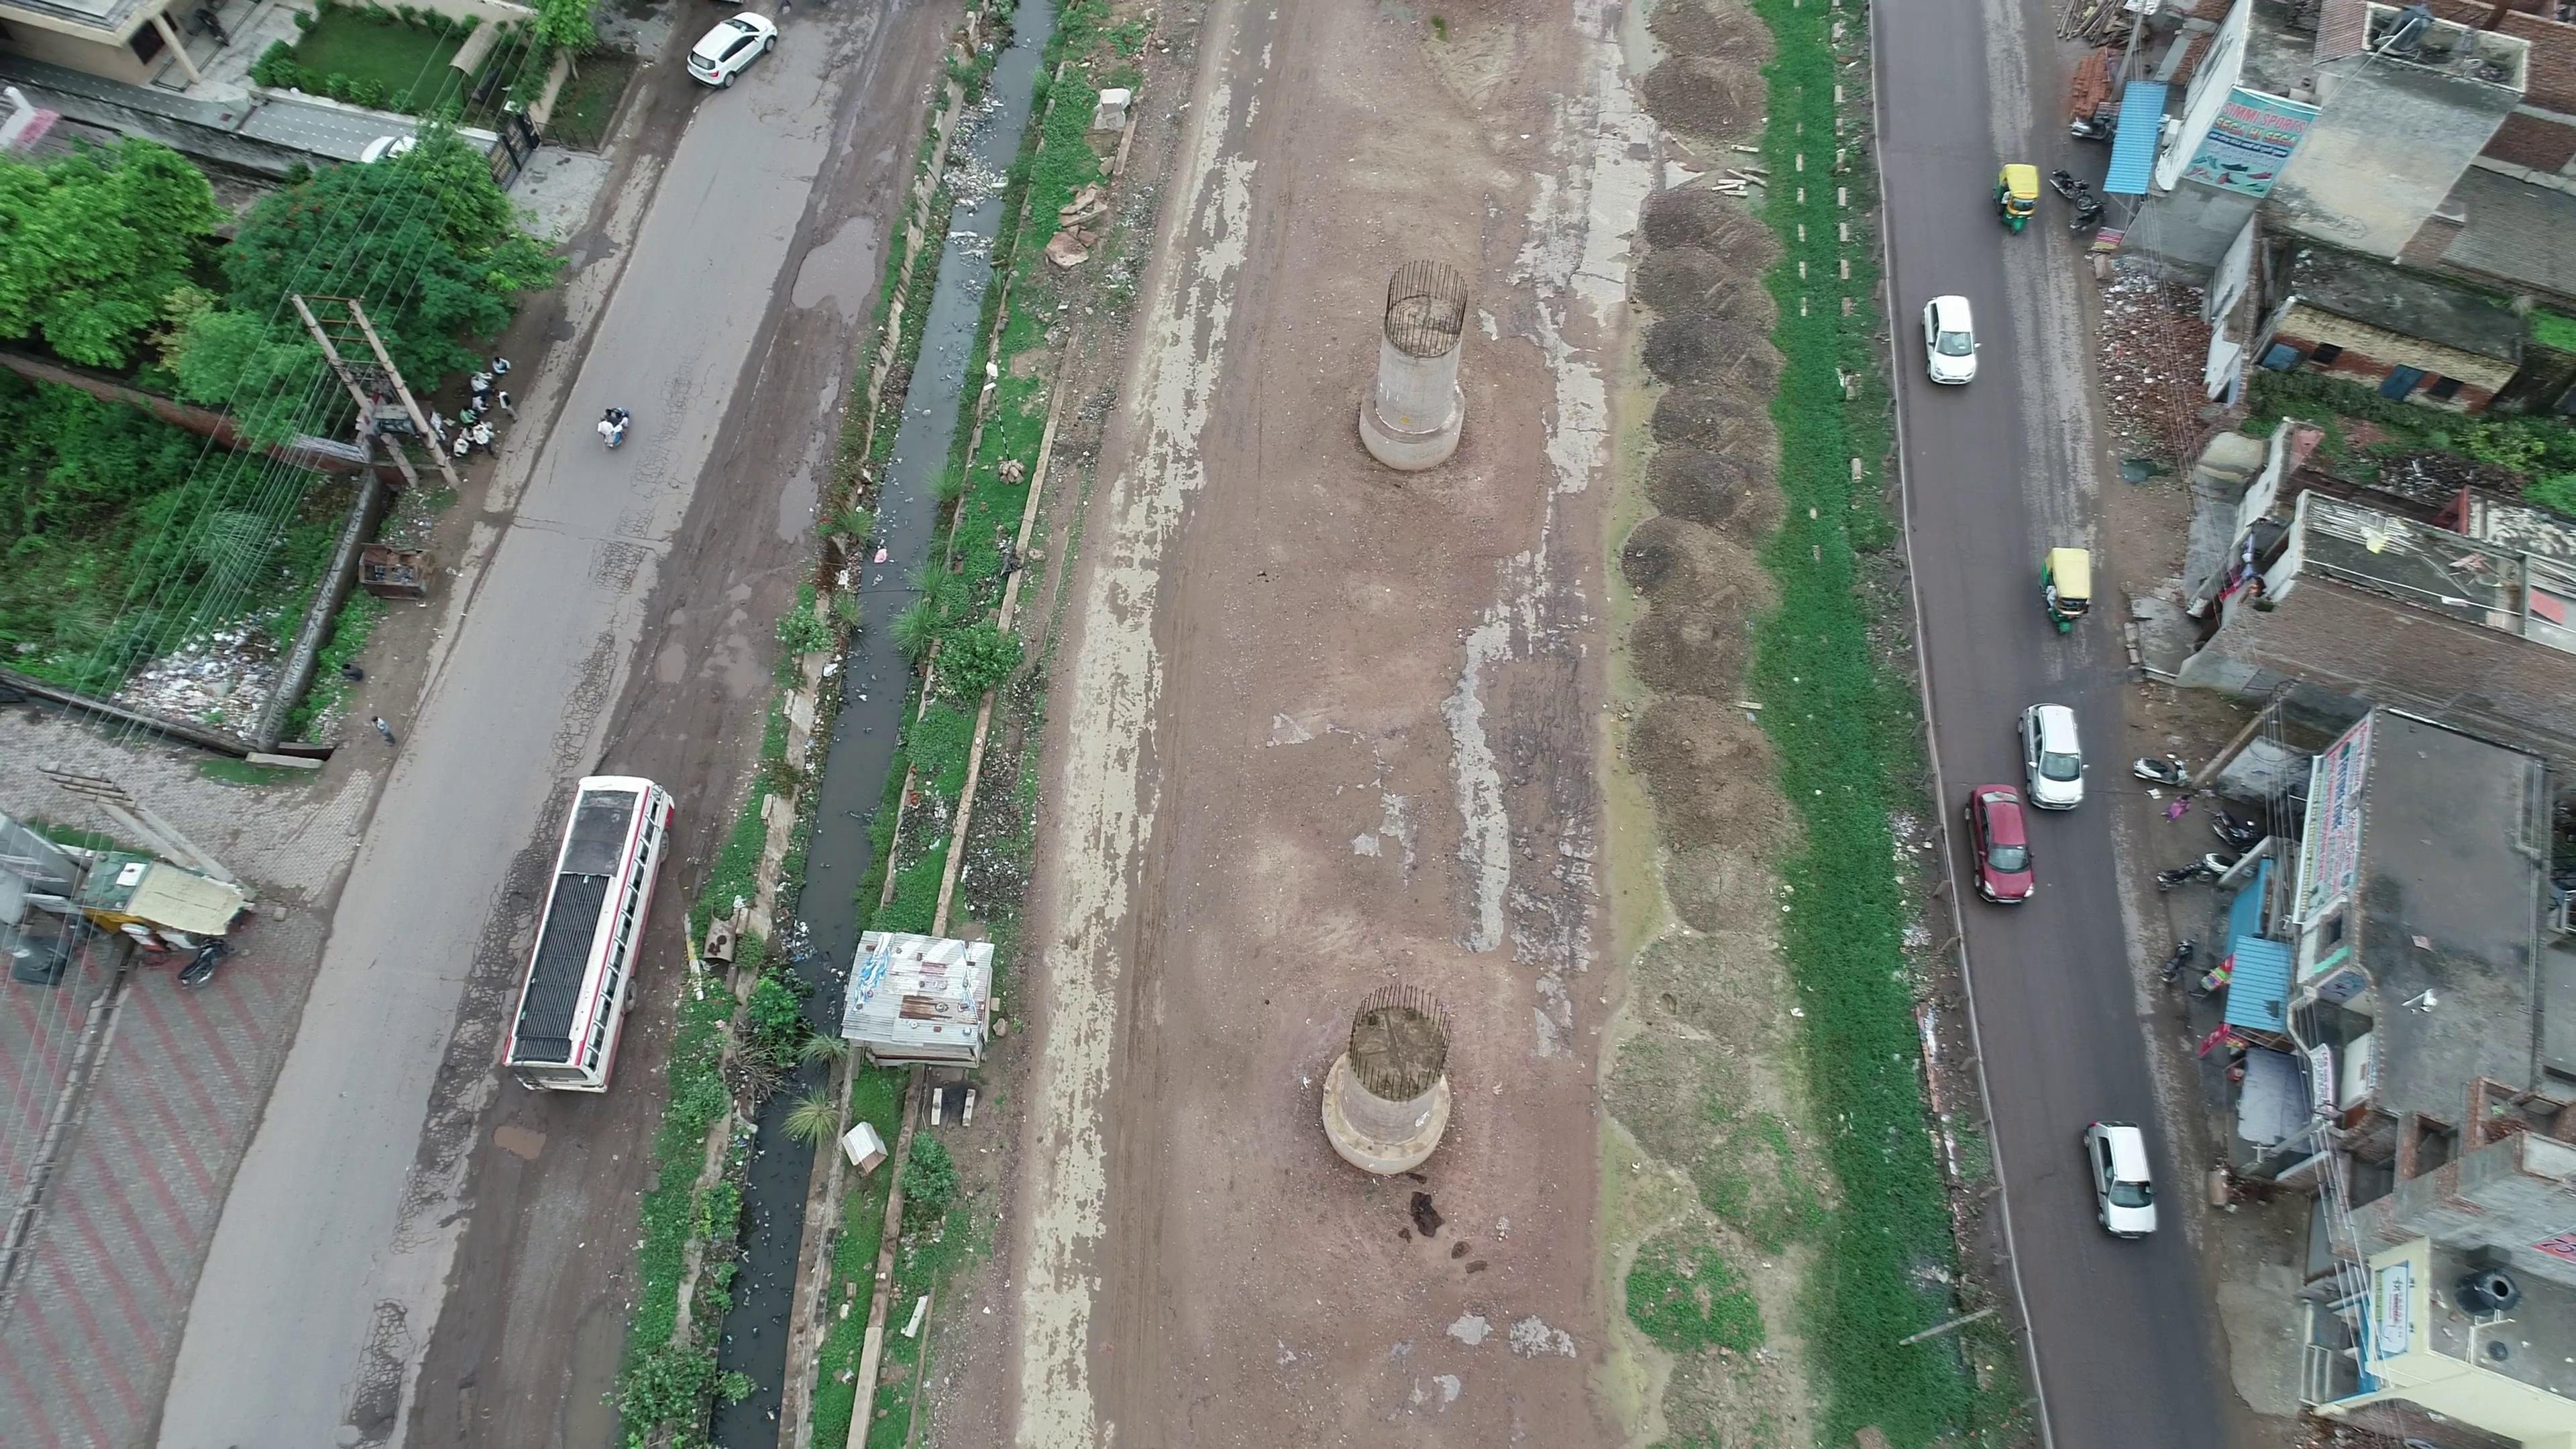Muddy_road: (619, 386, 840, 740)
Waterlogging: (763, 180, 897, 352)
